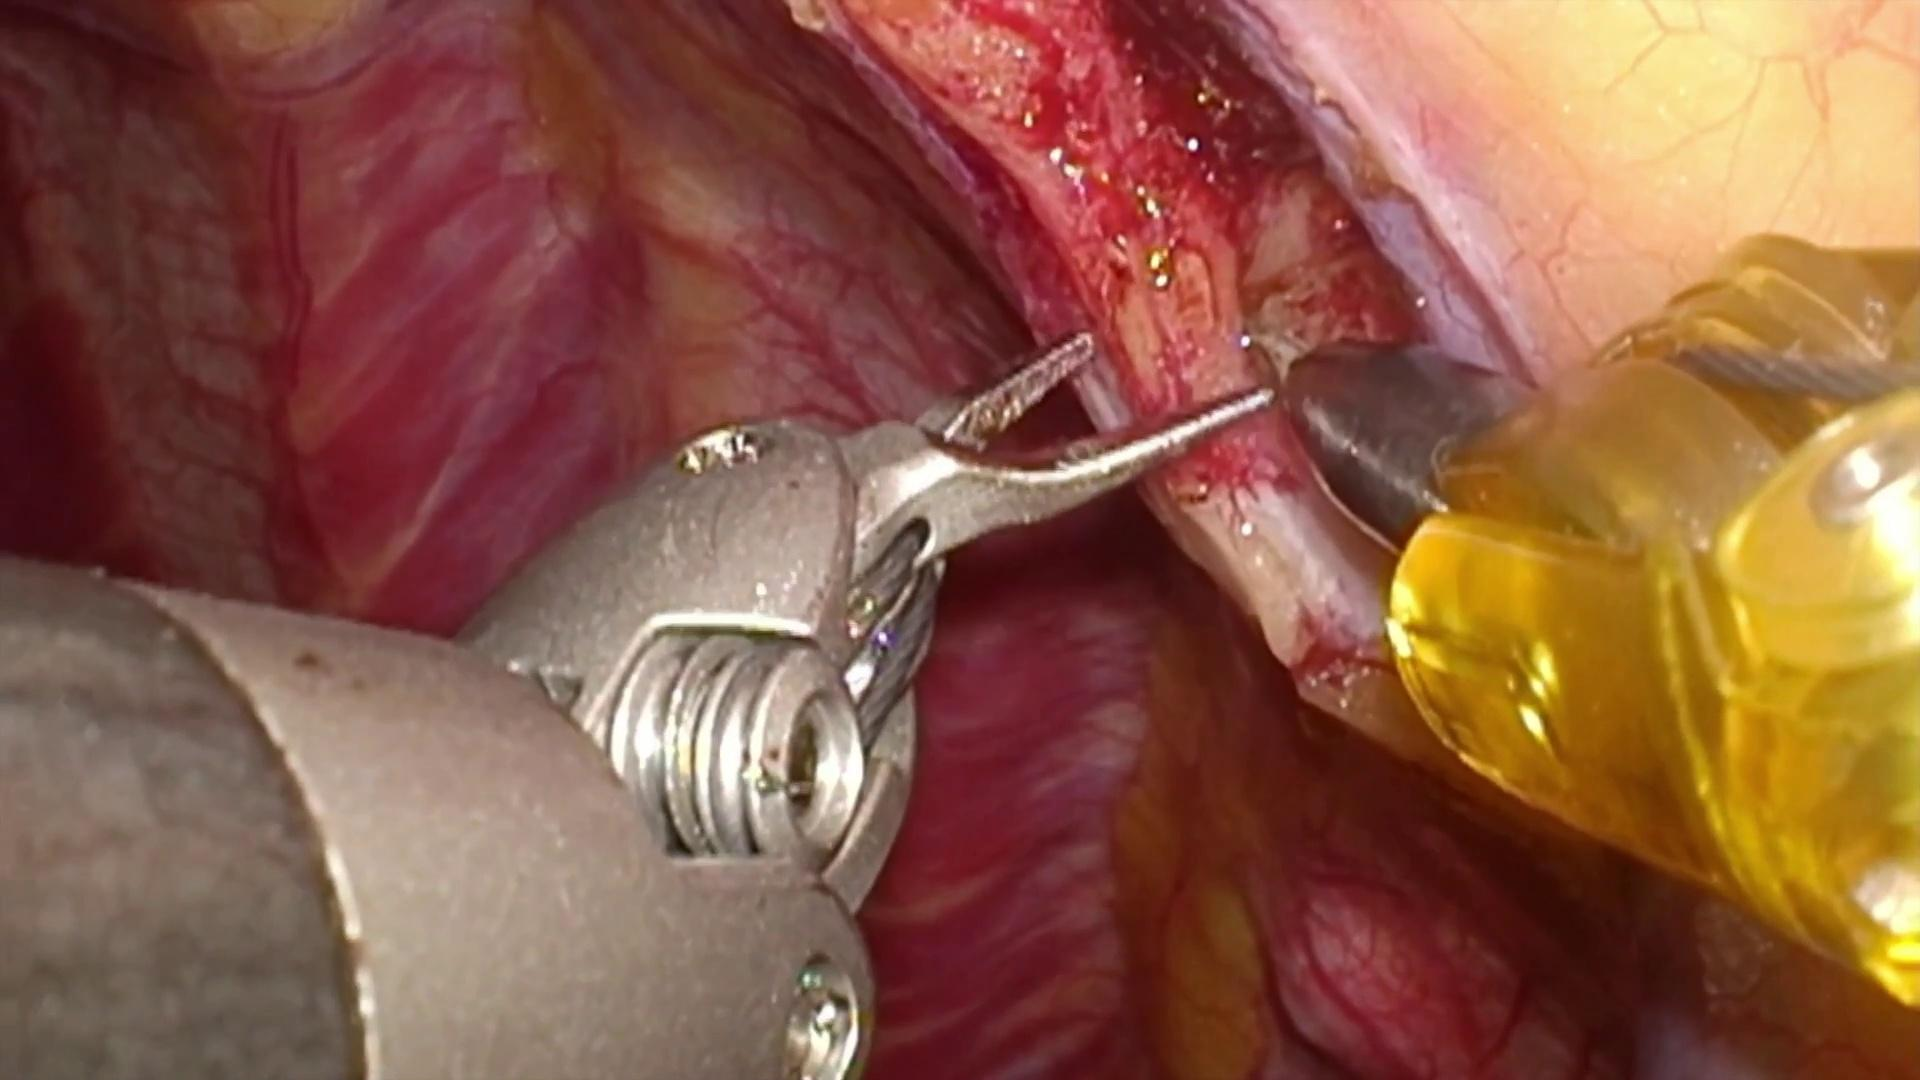Cautery_Spatula: (1240, 322, 1536, 558)
Debakey: (840, 297, 1280, 600)
